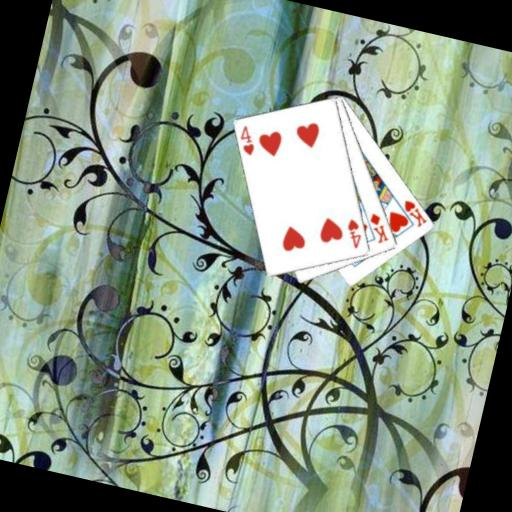4H: (340, 215, 367, 251), (234, 122, 261, 158)
KD: (363, 209, 396, 247)
KH: (396, 196, 432, 231)
